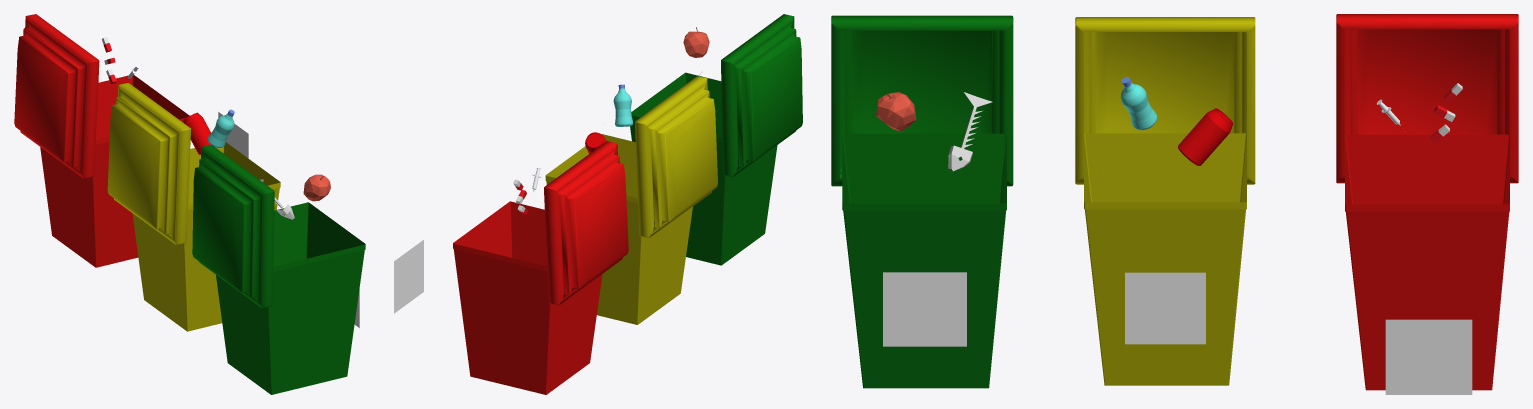
The model's file is Sampah[1].glb.
3 renders of one model, left to right at view 1: azimuth 30°, elevation 25°; view 2: azimuth 150°, elevation 25°; view 3: azimuth 270°, elevation 25°, orthographic. The views are drawn at different scales.
Parts seen in each view (by area): view 1: Plane.002, Plane.005, Plane.003, Plane.004, Plane.001, Plane, Circle, Circle.001, Low Poly Red Apple, logo_sampah_b3-removebg-preview; view 2: Plane.001, Plane.005, Plane.003, Plane.004, Plane, Plane.002, logo_sampah_b3-removebg-preview, Circle.001, Low Poly Red Apple; view 3: Plane.001, Plane.002, Plane, Plane.005, Plane.003, Plane.004, logo_sampah_b3-removebg-preview, logo_sampah-removebg-preview.001, logo_sampah-removebg-preview, Circle, Low Poly Red Apple, Circle.001 (+1 smaller).
Boxes of the visible parts, x1,y1,x2,y2 form: Plane.002: (216, 202, 365, 394); Plane.005: (14, 14, 99, 178); Plane.003: (192, 145, 274, 308); Plane.004: (107, 83, 190, 244); Plane.001: (40, 75, 189, 267); Plane: (132, 142, 280, 331); Circle: (183, 112, 210, 154); Circle.001: (207, 109, 234, 148); Low Poly Red Apple: (303, 174, 330, 201); logo_sampah_b3-removebg-preview: (218, 112, 248, 158); Plane.001: (453, 201, 602, 394); Plane.005: (544, 141, 628, 305); Plane.003: (721, 14, 802, 177); Plane.004: (635, 76, 717, 237); Plane: (545, 134, 692, 324); Plane.002: (630, 72, 777, 265); logo_sampah_b3-removebg-preview: (394, 240, 423, 313); Circle.001: (613, 84, 633, 126); Low Poly Red Apple: (683, 27, 709, 57); Plane.001: (1345, 134, 1509, 390); Plane.002: (842, 133, 1006, 388); Plane: (1084, 112, 1246, 385); Plane.005: (1336, 14, 1518, 183); Plane.003: (831, 15, 1013, 186); Plane.004: (1075, 17, 1255, 184); logo_sampah_b3-removebg-preview: (1385, 319, 1472, 394); logo_sampah-removebg-preview.001: (883, 272, 966, 346); logo_sampah-removebg-preview: (1125, 272, 1205, 344); Circle: (1178, 108, 1233, 165); Low Poly Red Apple: (876, 92, 916, 131); Circle.001: (1120, 77, 1157, 130).
Bounding box in the file's own units: 2.47 × 2.57 × 5.14.
12 materials, 1 textured.
